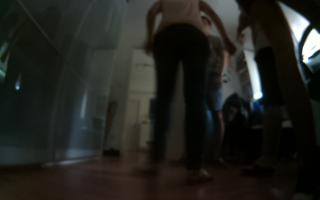person: (130, 1, 233, 181), (236, 1, 320, 200), (236, 6, 283, 164), (199, 13, 236, 173)
